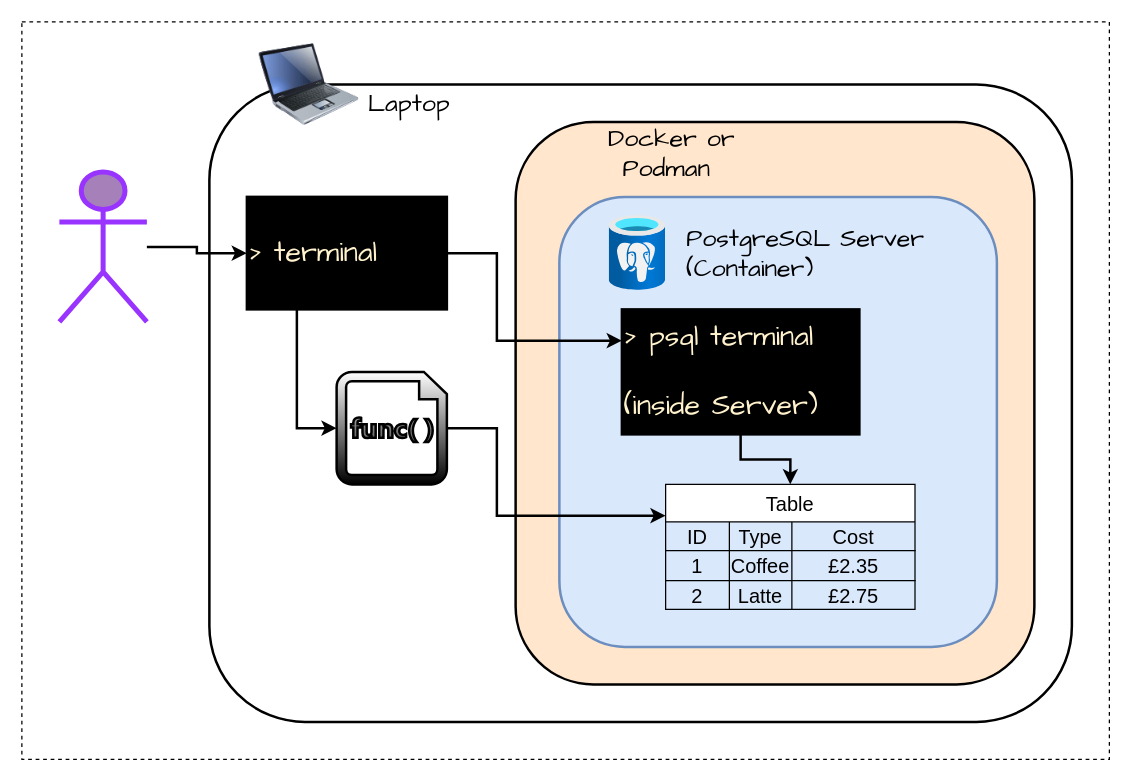
The diagram is 1131 pixels wide and 781 high, and some of its shapes have lost their labels. Here are the shapes that lost their labels. From the top down, the centre of each, then its label:
At [102,246]: "You".
At [391,427]: "Python File".
